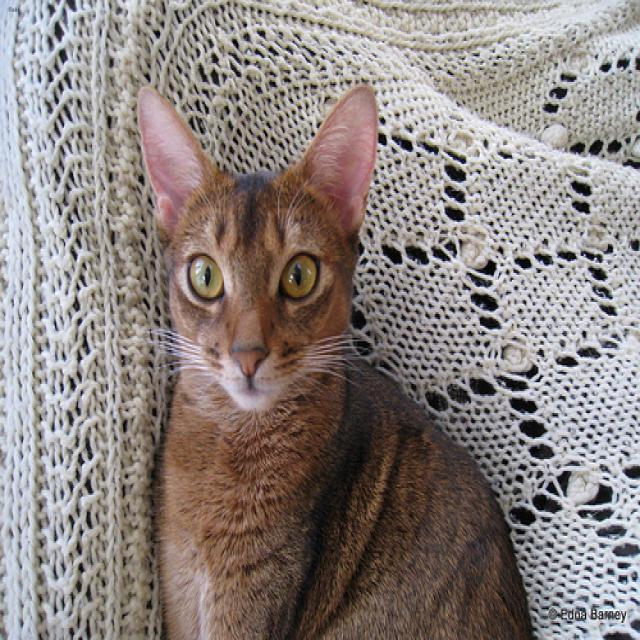Abyssinian: (131, 79, 384, 421)
